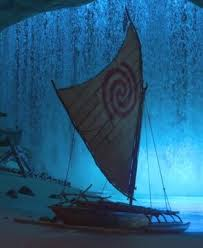boat: (13, 8, 192, 234)
